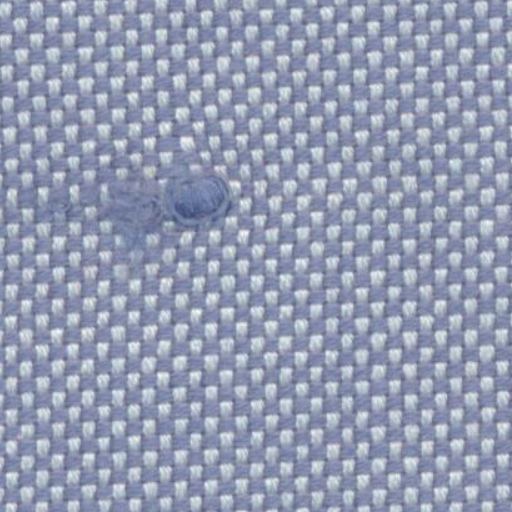MianQiu: (50, 146, 257, 271)
